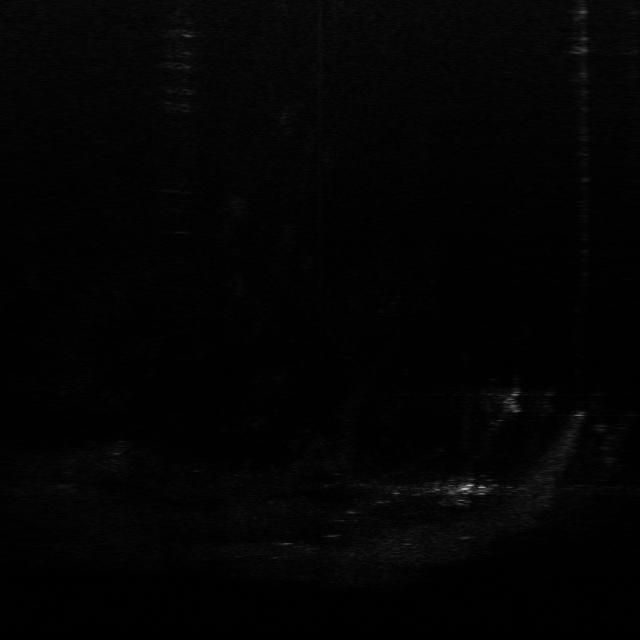rov: (454, 479, 494, 500)
